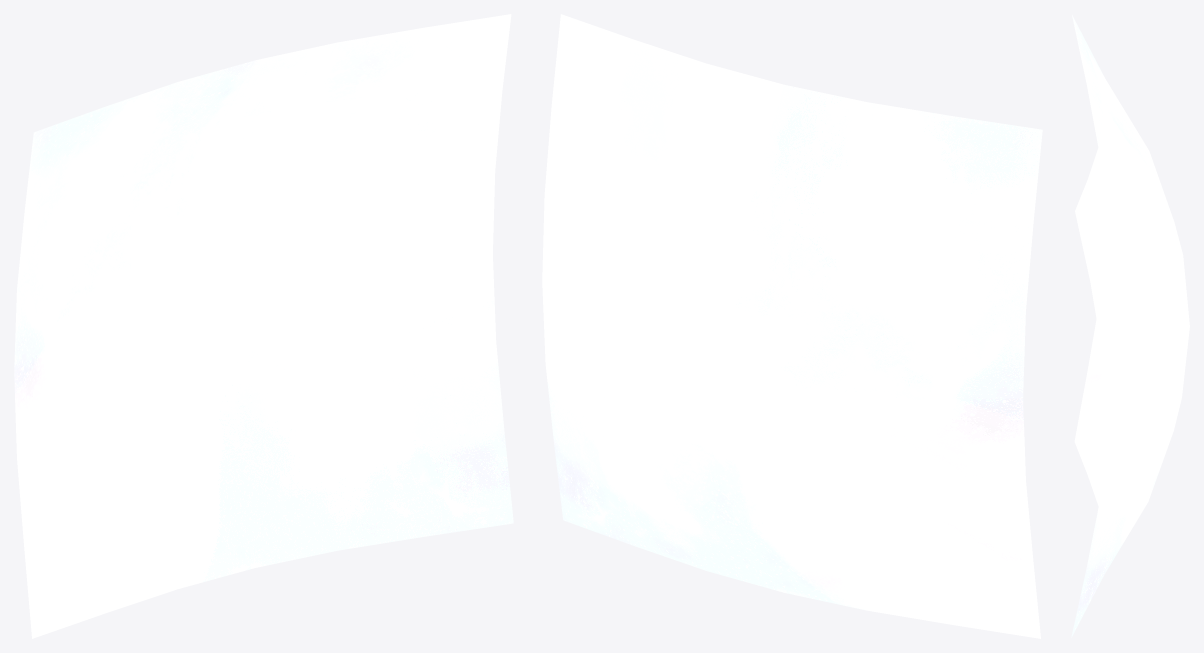
Rendered from bg_solarian6_3db.gltf.
The picture shows the model from 3 angles, left to right: view 1: azimuth 30°, elevation 25°; view 2: azimuth 150°, elevation 25°; view 3: azimuth 270°, elevation 25°; orthographic projection. The views are drawn at different scales.
Parts seen in each view (by area): view 1: bg_solarian6.3db; view 2: bg_solarian6.3db; view 3: bg_solarian6.3db.
Boxes of the visible parts, x1,y1,x2,y2 form: bg_solarian6.3db: (14,14,513,638); bg_solarian6.3db: (542,14,1042,638); bg_solarian6.3db: (1071,15,1189,637).
Bounding box in the file's own units: 73.75 × 74.6 × 18.8.
Materials: 4 (4 with a texture image).
